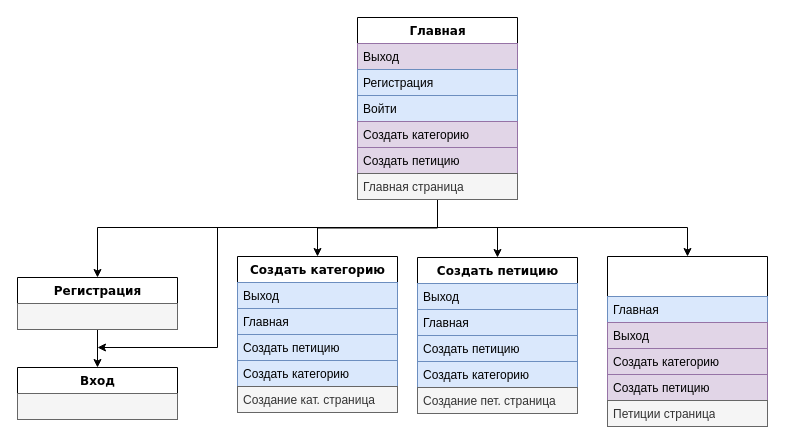
Image size: 785x447. Some labels were removed from this diagram. The box of each missing label's shape, as (x1, y1, x2, y2) in pixels:
Вход страница: (16, 392, 178, 420)
Полная информация о петиции: (606, 256, 768, 426)
Регистрация страница: (16, 302, 178, 330)
